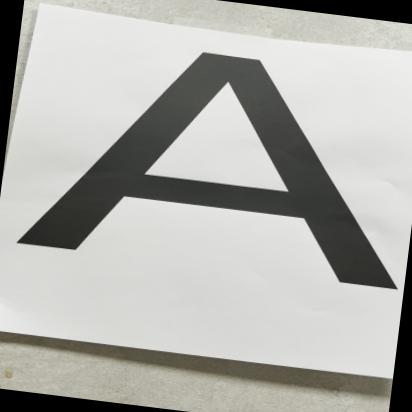seat: (7, 7, 412, 342)
